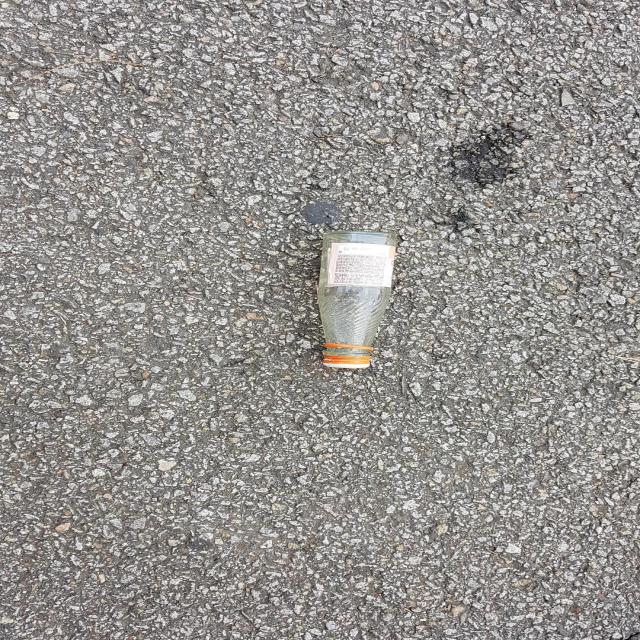glass: (316, 231, 396, 369)
